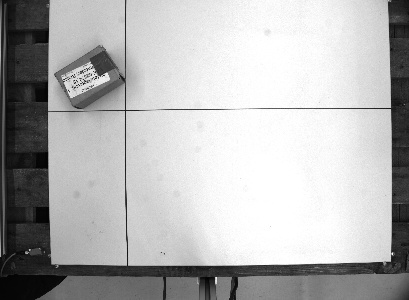b6: (51, 42, 128, 110)
